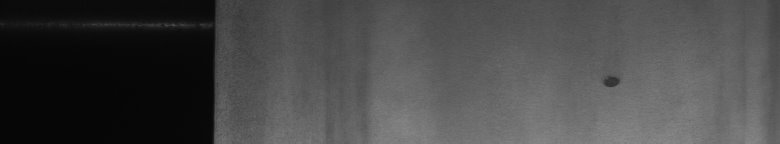fi: (597, 70, 625, 92)
